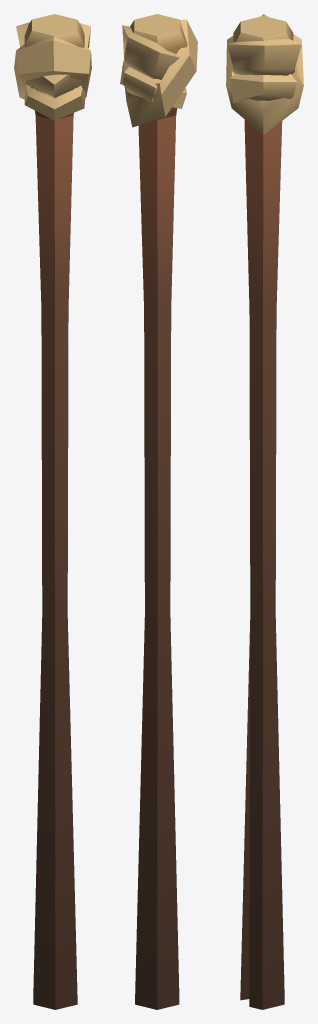
The model's file is Torch_2A.FBX.
3 renders of one model, left to right at view 1: azimuth 90°, elevation 25°; view 2: azimuth 210°, elevation 25°; view 3: azimuth 270°, elevation 25°, orthographic.
Visible parts, largest first — view 1: Torch_2A; view 2: Torch_2A; view 3: Torch_2A.
Part boxes in pixels (left/top/right/bottom): Torch_2A: left=14, top=14, right=91, bottom=1009; Torch_2A: left=120, top=14, right=197, bottom=1009; Torch_2A: left=226, top=14, right=303, bottom=1009.
Size of the model in its own units: 0.1419 by 1.78 by 0.1287.
